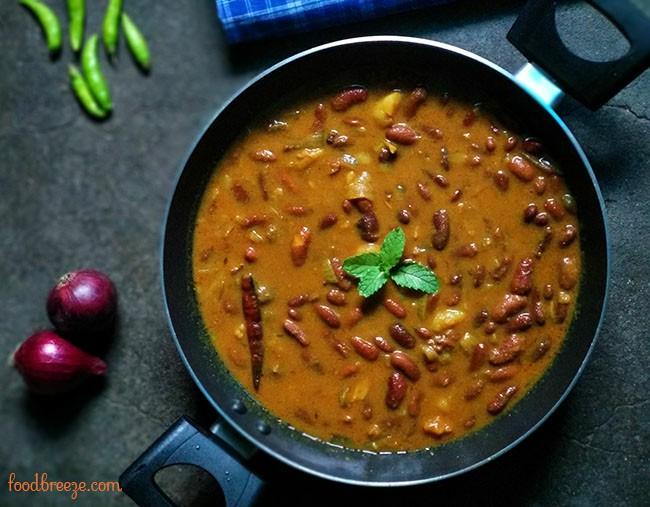RajmaCurry: (188, 47, 580, 459)
